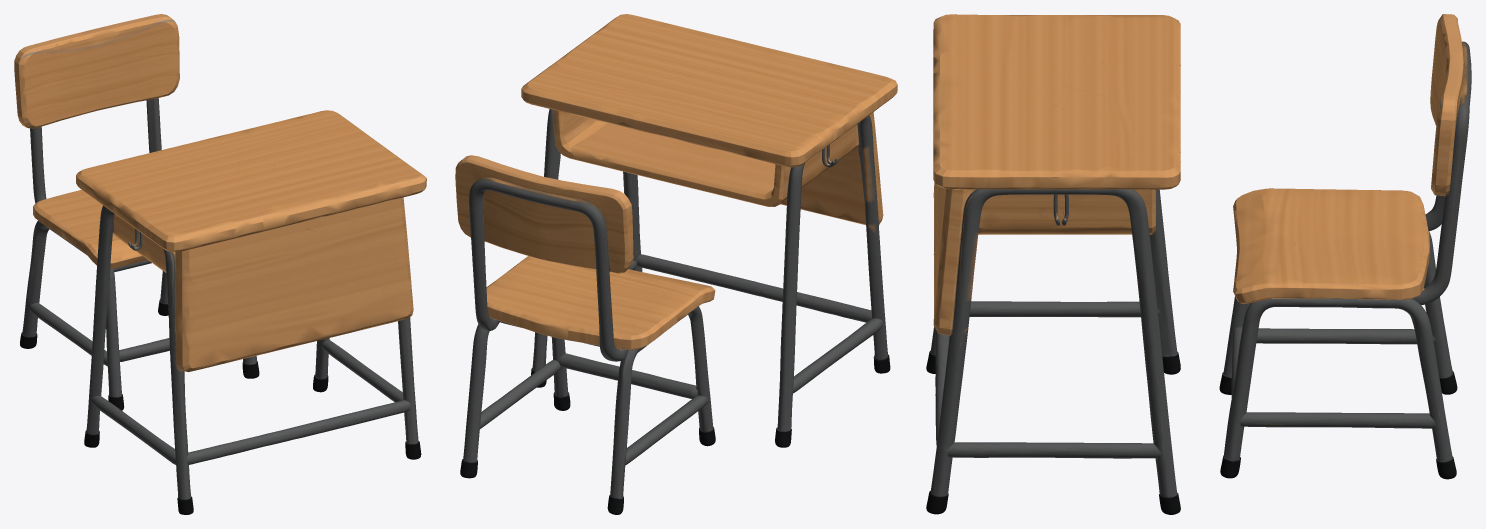
File: Meshy_AI_Indonesian_Student_De_1011041201_image-to-3d-texture.fbx
3 renders of one model, left to right at view 1: azimuth 30°, elevation 25°; view 2: azimuth 150°, elevation 25°; view 3: azimuth 270°, elevation 25°, orthographic. The views are drawn at different scales.
Parts seen in each view (by area): view 1: Mesh_0; view 2: Mesh_0; view 3: Mesh_0.
Part boxes in pixels (x1,y1,x2,y2): Mesh_0: [14, 14, 426, 514]; Mesh_0: [455, 14, 897, 514]; Mesh_0: [926, 14, 1471, 514].
Bounding box in the file's own units: 133 × 148 × 190.
Materials: 1 (1 with a texture image).
